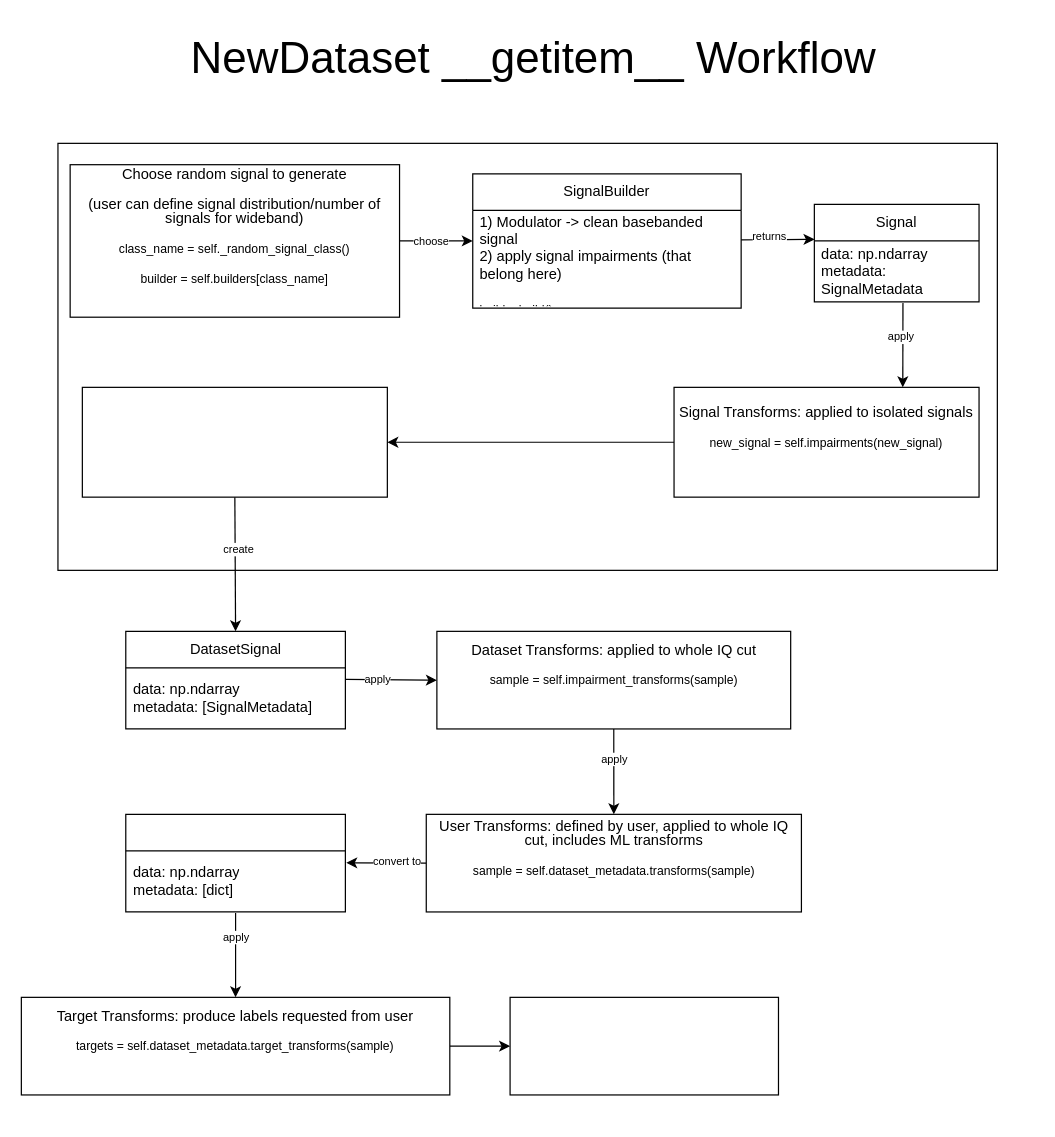
The diagram is 1055 pixels wide and 1137 high, and some of its shapes have lost their labels. The shapes that lost their labels are listed below. From the top down, each one's box as (x1, y1, x2, y2) in pixels, then its label:
(57, 142, 997, 570): self.__generate_new_signal__()
(81, 386, 387, 497): place on narrowband/wideband cut iq_samples[start:stop] += new_signal.data
(125, 813, 345, 912): DatasetDict
(509, 996, 778, 1095): return sample.data, targets
